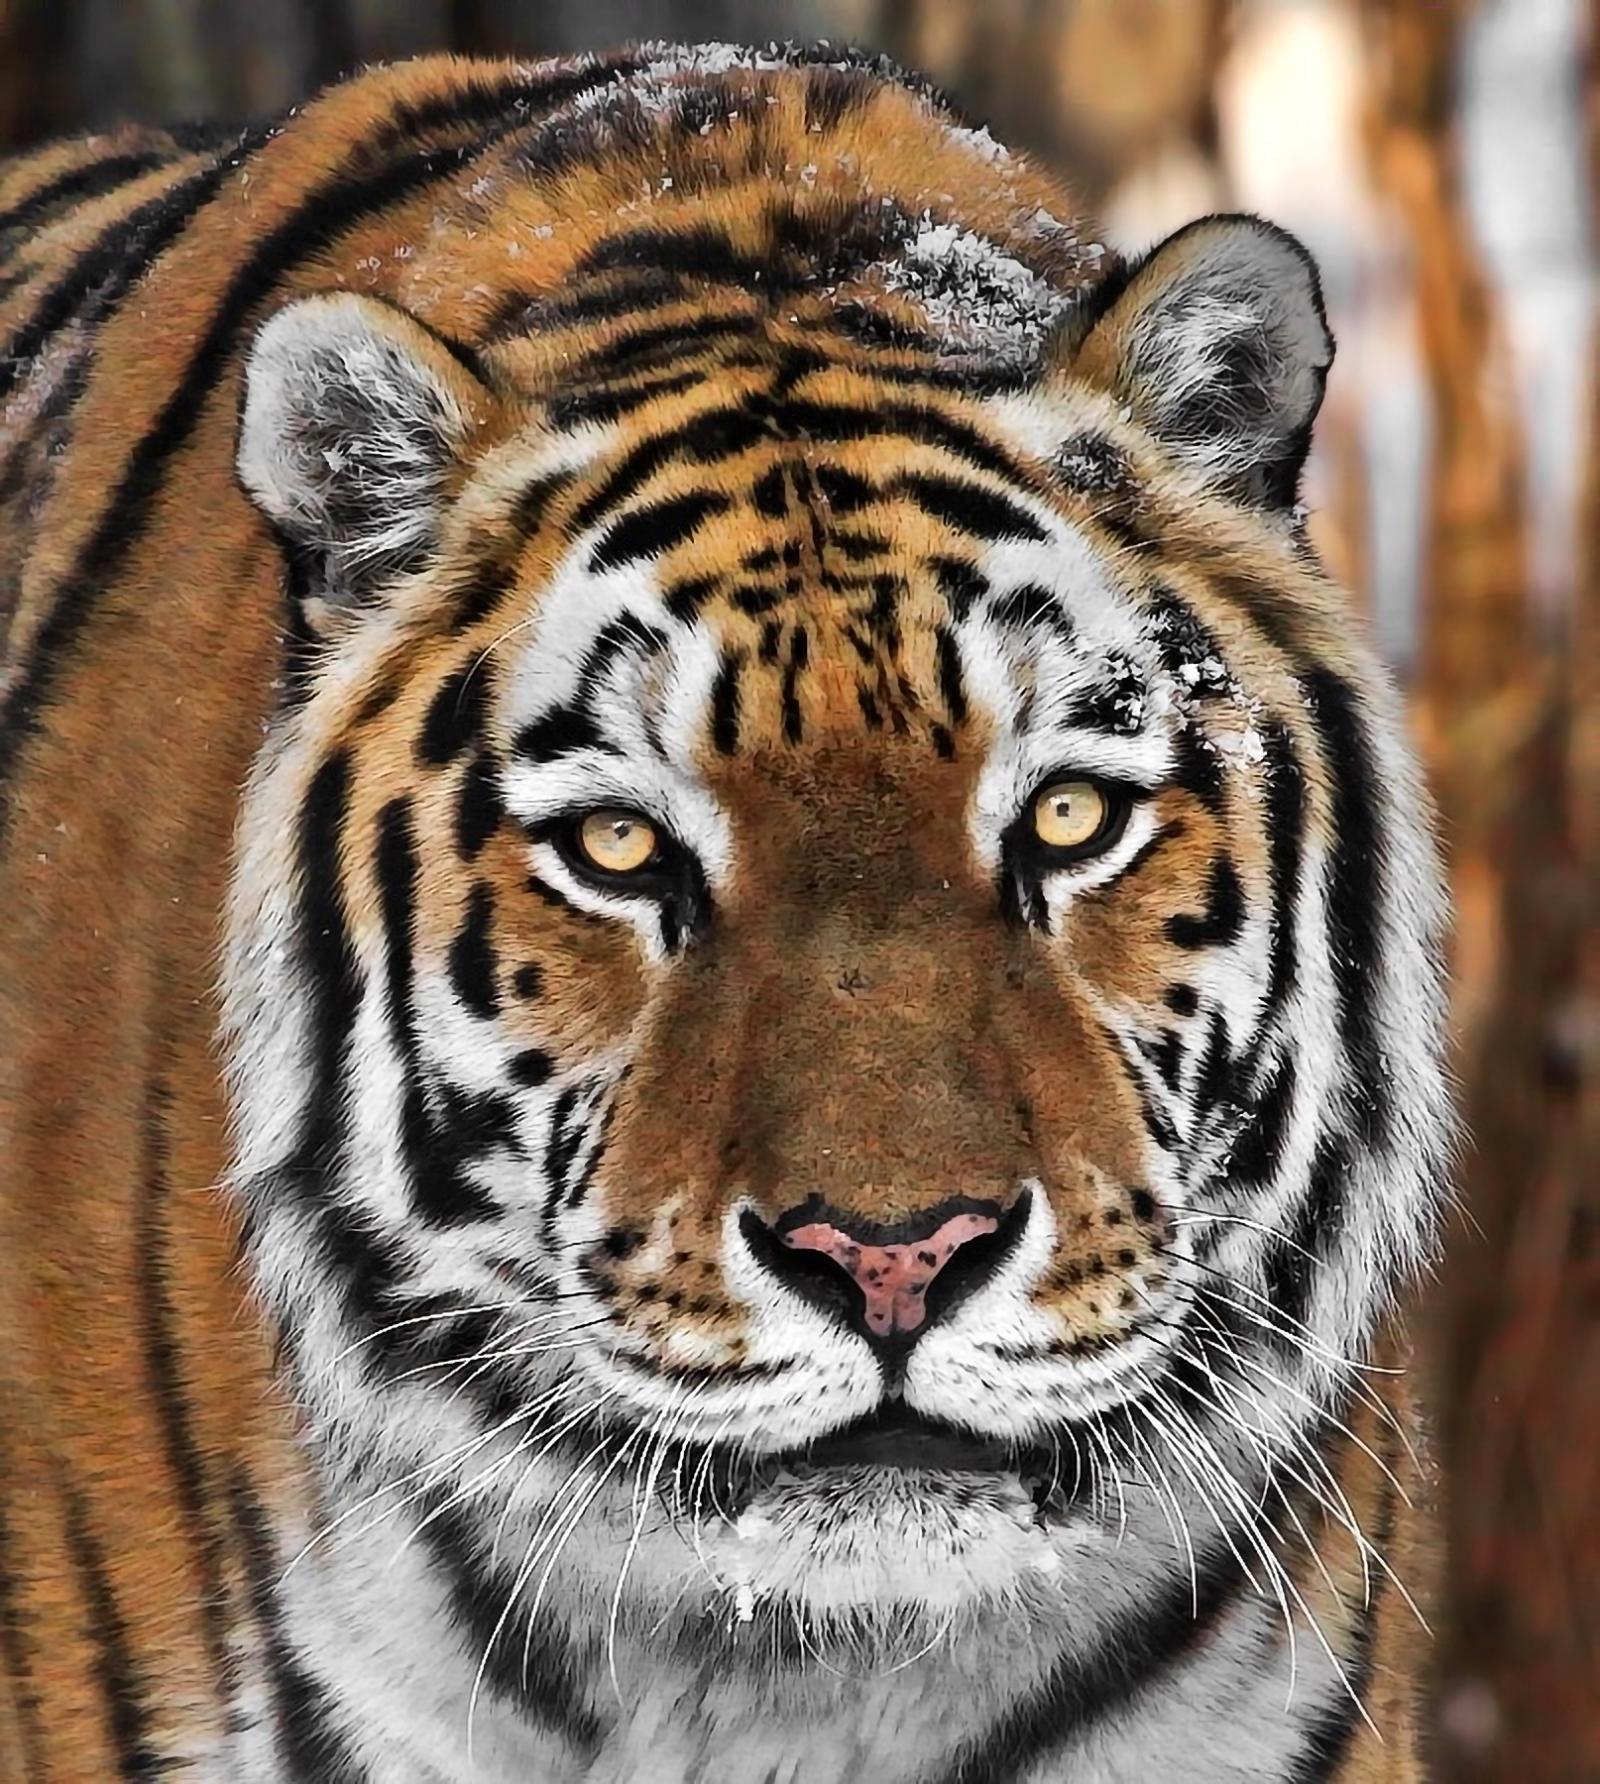tiger: (85, 90, 1473, 1688)
